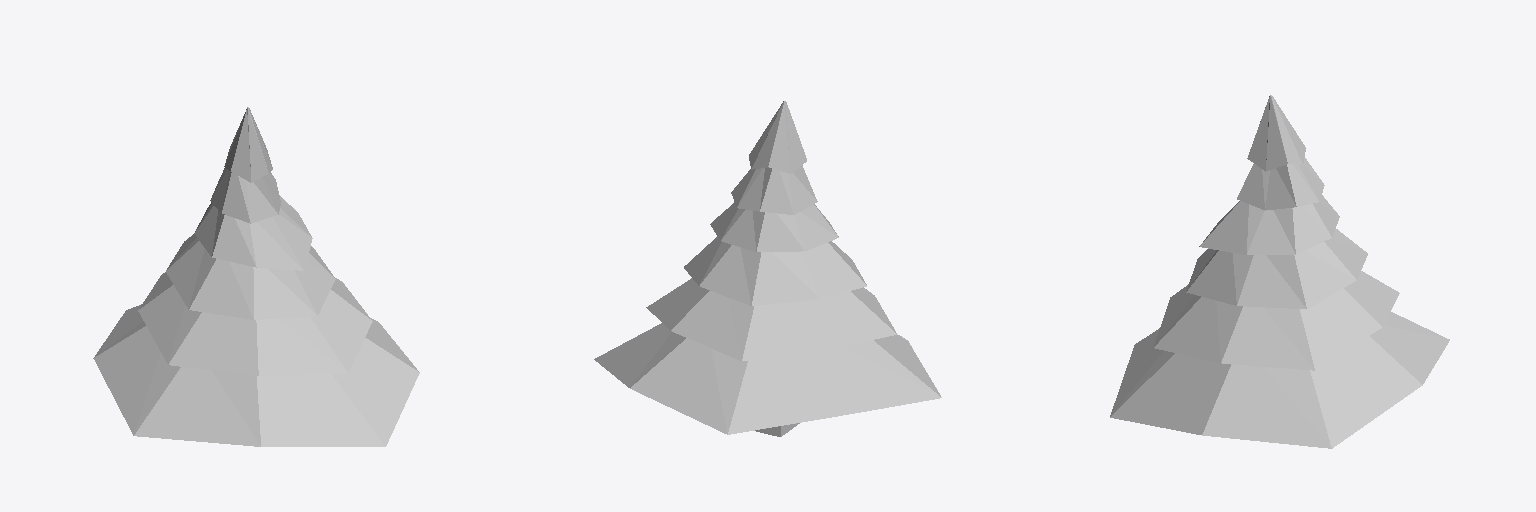
Rendered from tree3.obj.
3 views of the same model, side by side, from view 1: azimuth 30°, elevation 25°; view 2: azimuth 150°, elevation 25°; view 3: azimuth 270°, elevation 25° (orthographic).
Parts seen in each view (by area): view 1: Body_bGeometry; view 2: Body_bGeometry; view 3: Body_bGeometry.
Part boxes in pixels (x1,y1,x2,y2): Body_bGeometry: (93,107,419,446); Body_bGeometry: (594,101,941,434); Body_bGeometry: (1110,95,1449,448).
Size of the model in its own units: 3.29 by 3.29 by 3.27.